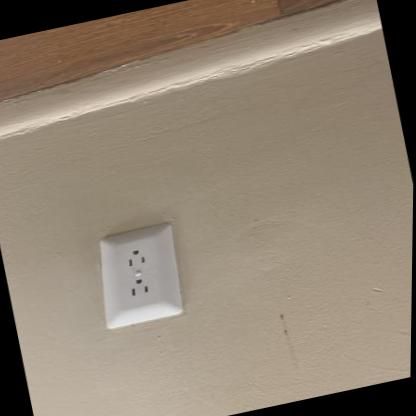OUTLET: (86, 218, 193, 332)
